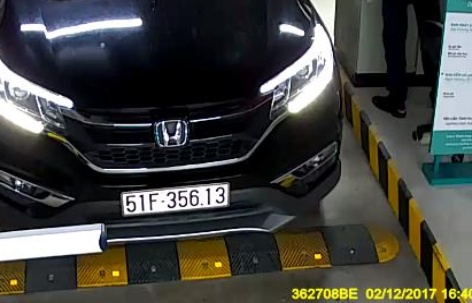plate: (118, 184, 232, 214)
